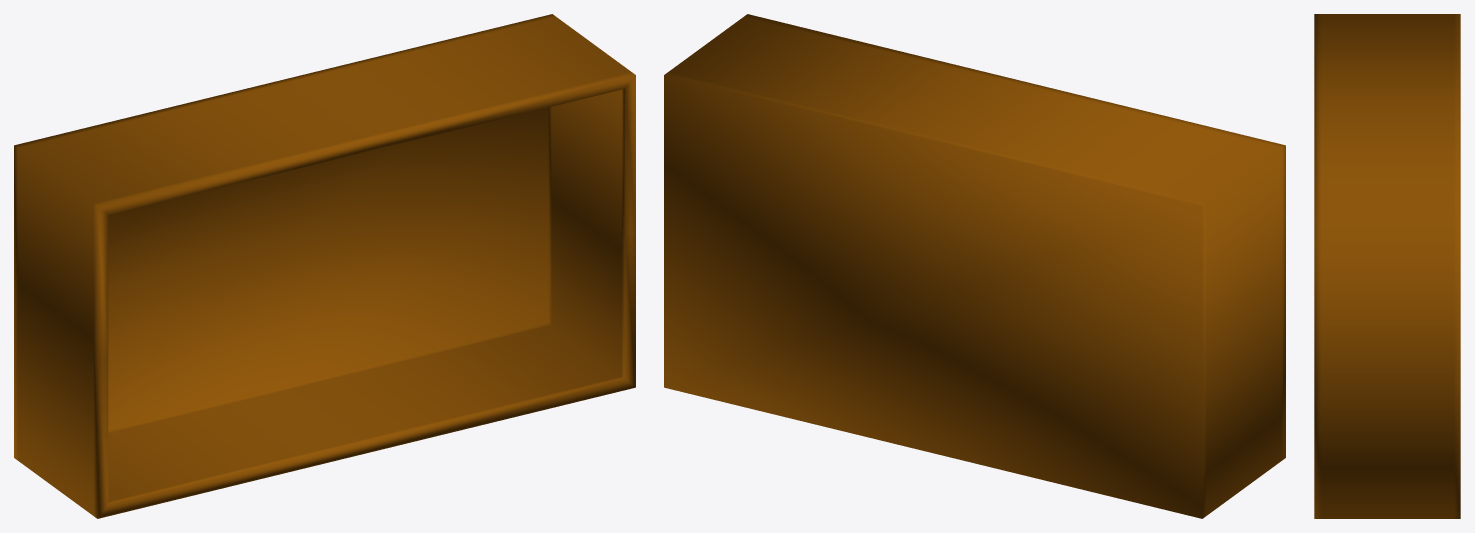
File: K_cabinet.fbx
3 views of the same model, side by side, from view 1: azimuth 30°, elevation 25°; view 2: azimuth 150°, elevation 25°; view 3: azimuth 270°, elevation 25° (orthographic). The views are drawn at different scales.
Parts seen in each view (by area): view 1: Book.002; view 2: Book.002; view 3: Book.002.
Boxes of the visible parts, x1,y1,x2,y2 form: Book.002: (14, 14, 635, 518); Book.002: (664, 14, 1285, 518); Book.002: (1314, 14, 1460, 518).
Bounding box in the file's own units: 172 × 95.17 × 46.03.
